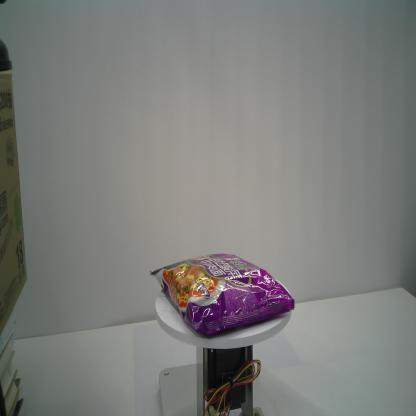Instant Noodles: (147, 250, 296, 336)
